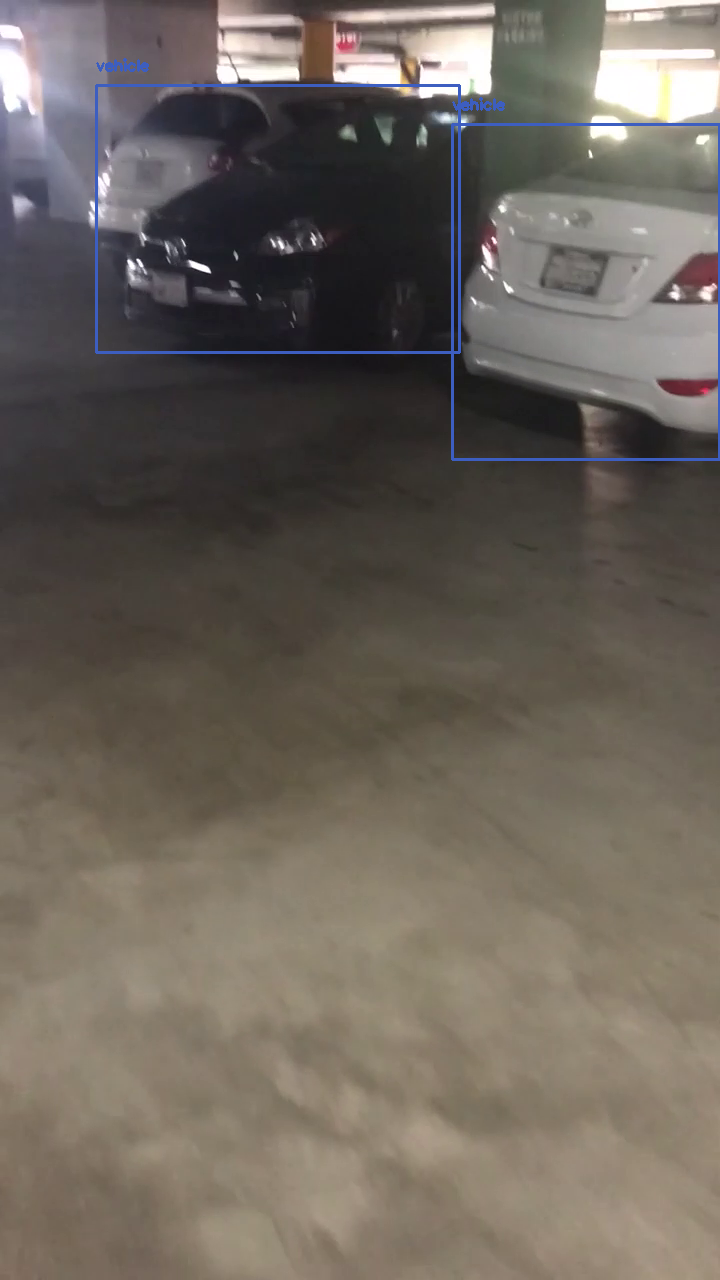vehicle: (96, 85, 459, 352), (452, 124, 719, 459)
